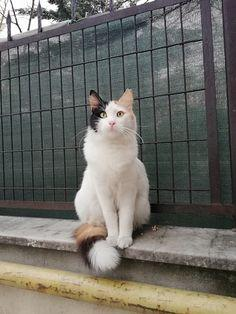kedo: (75, 85, 151, 273)
